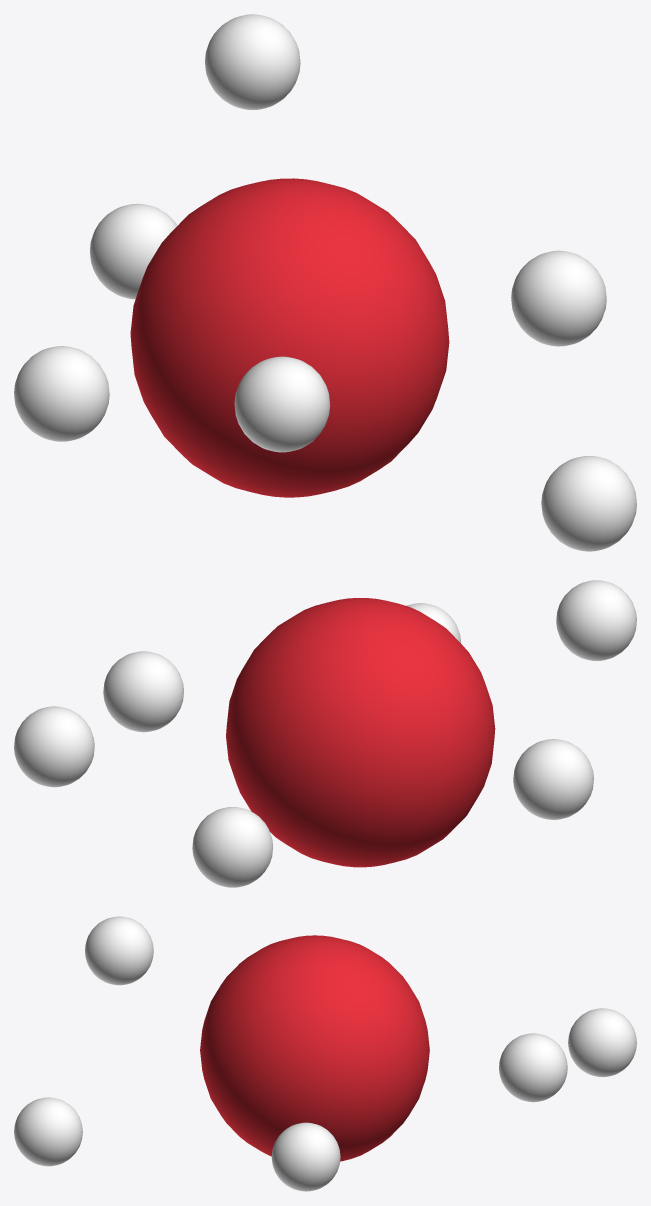
Rendered from oxygen_animation.glb.
The picture shows the model from 3 angles, top to bottom: view 1: azimuth 30°, elevation 25°; view 2: azimuth 150°, elevation 25°; view 3: azimuth 270°, elevation 25°; orthographic projection. The views are drawn at different scales.
Parts seen in each view (by area): view 1: Sphere, Sphere.006, Sphere.004, Sphere.002, Sphere.005, Sphere.003, Sphere.001; view 2: Sphere, Sphere.003, Sphere.001, Sphere.006, Sphere.002, Sphere.005, Sphere.004; view 3: Sphere, Sphere.005, Sphere.002, Sphere.004, Sphere.001, Sphere.006.
Boxes of the visible parts, bbox=[...] form: Sphere: bbox=[130, 178, 449, 497]; Sphere.006: bbox=[511, 250, 606, 346]; Sphere.004: bbox=[541, 456, 636, 551]; Sphere.002: bbox=[205, 14, 300, 109]; Sphere.005: bbox=[234, 356, 330, 452]; Sphere.003: bbox=[14, 346, 109, 441]; Sphere.001: bbox=[90, 203, 177, 299]; Sphere: bbox=[226, 598, 495, 867]; Sphere.003: bbox=[513, 739, 593, 819]; Sphere.001: bbox=[192, 807, 272, 887]; Sphere.006: bbox=[103, 651, 183, 732]; Sphere.002: bbox=[14, 706, 94, 787]; Sphere.005: bbox=[556, 580, 636, 660]; Sphere.004: bbox=[406, 603, 460, 642]; Sphere: bbox=[200, 935, 429, 1161]; Sphere.005: bbox=[85, 916, 153, 985]; Sphere.002: bbox=[568, 1008, 636, 1077]; Sphere.004: bbox=[14, 1097, 82, 1166]; Sphere.001: bbox=[499, 1033, 567, 1102]; Sphere.006: bbox=[271, 1122, 340, 1191].
Size of the model in its own units: 4.15 by 2 by 5.42.
